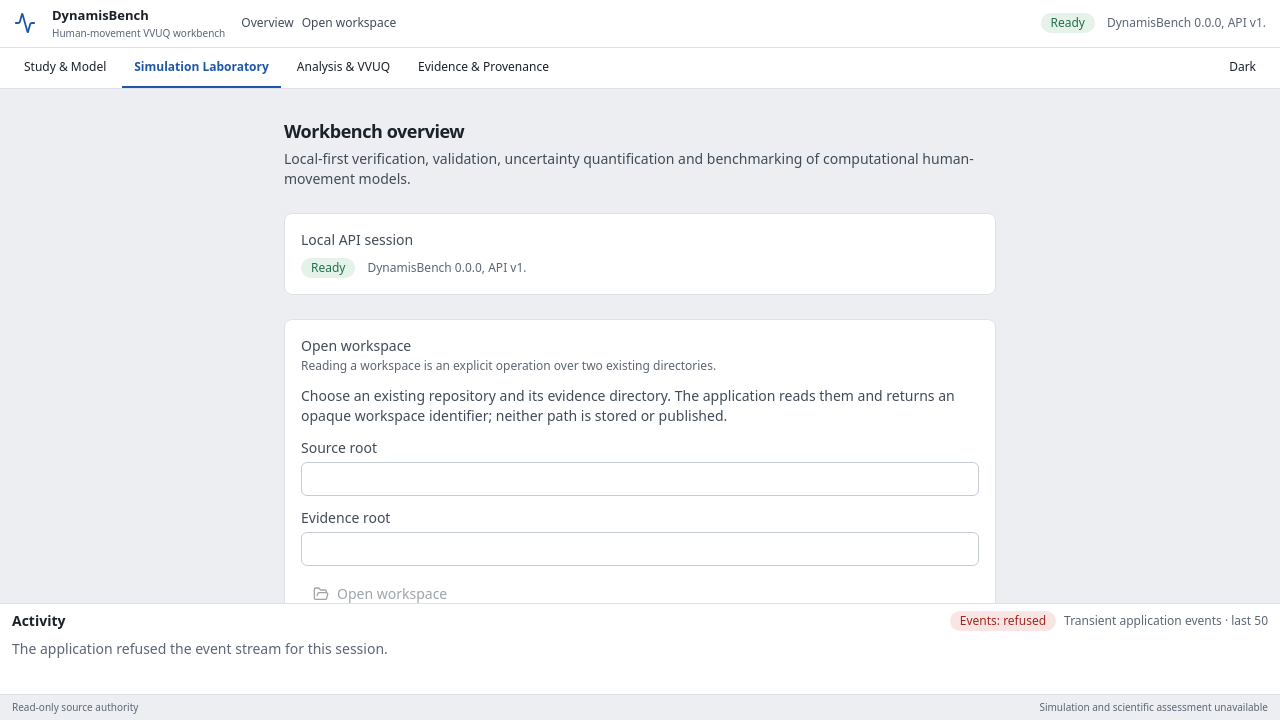
Test: the open-workspace flow › opens a workspace and navigates to the opaque identifier it returned
Type "C:\\research\\source" into the field labelled "Source root" at (640, 478), box [301,462,979,496]
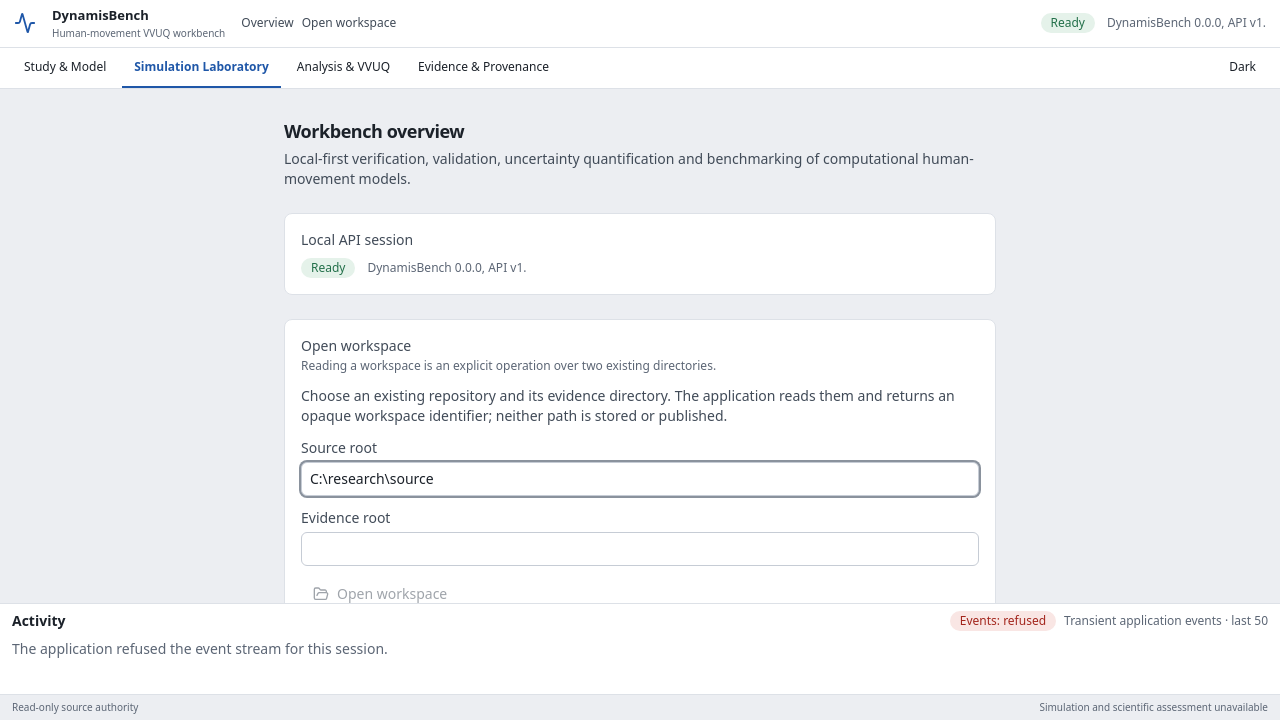
Type "C:\\research\\evidence" into the field labelled "Evidence root" at (640, 548), box [301,532,979,566]
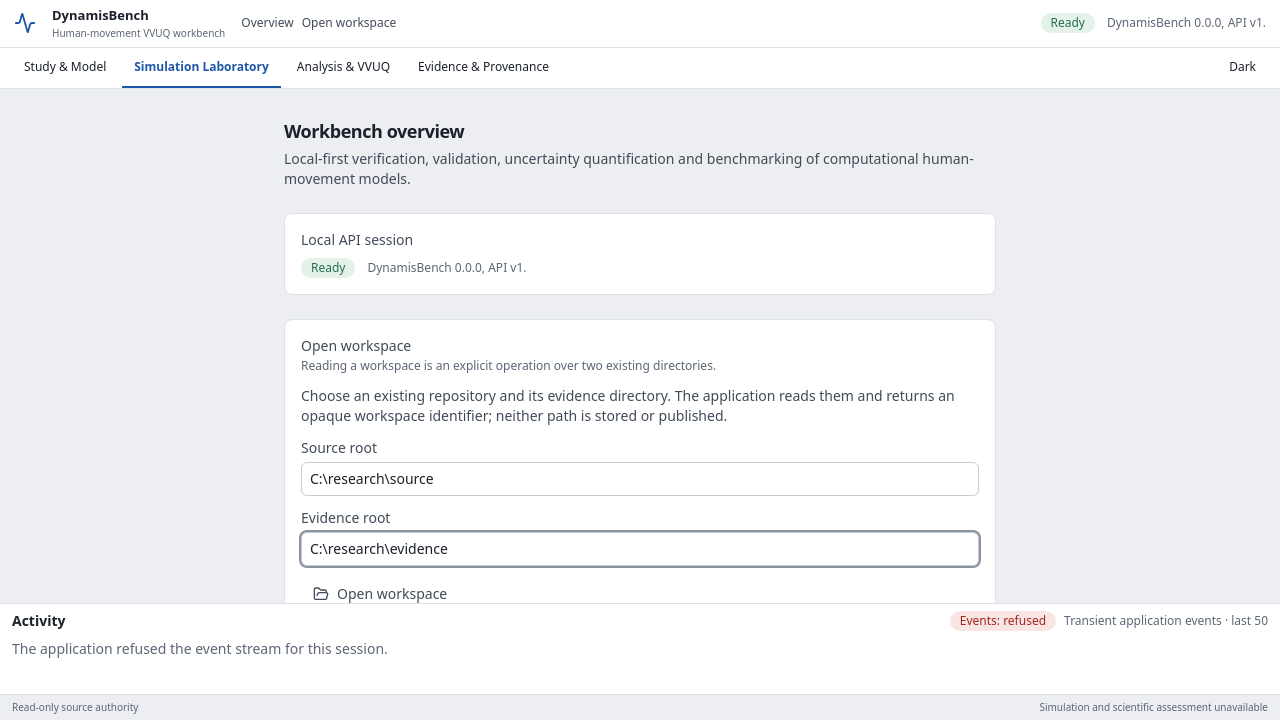
Click the button "Open workspace" at (380, 594), box [301,578,459,610]
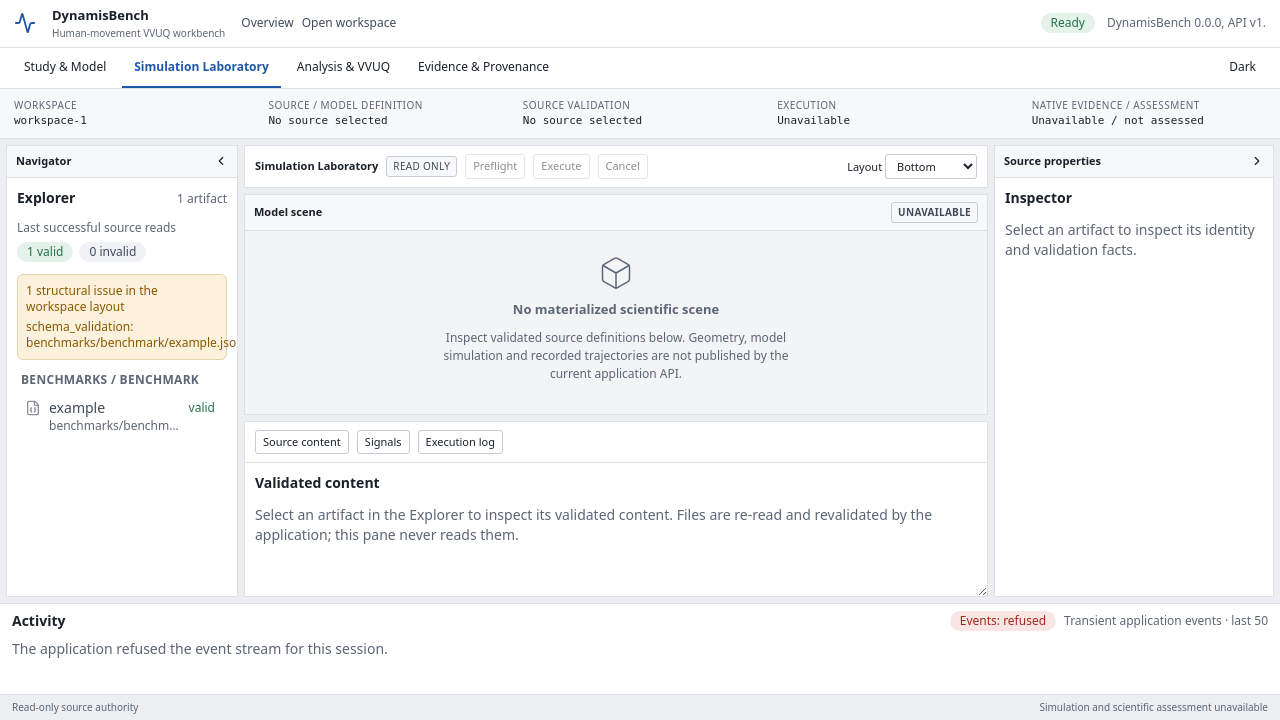
Check: the text "workspace-1" is shown, box [14,114,87,126]
